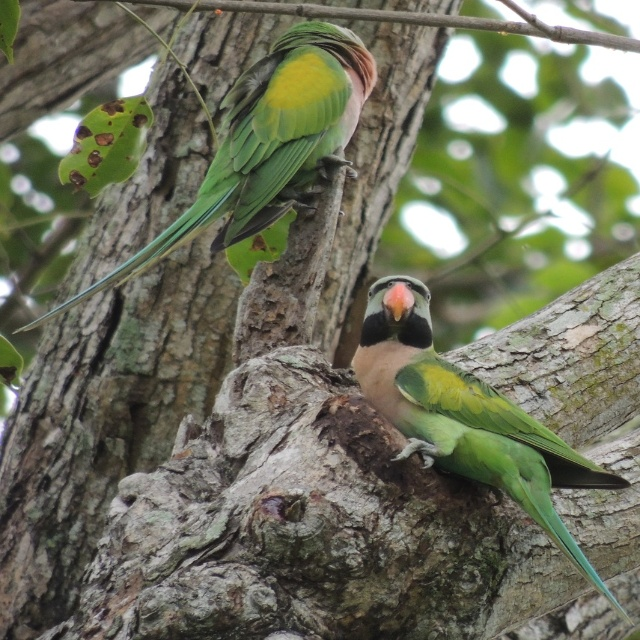Parrot: (15, 21, 379, 337), (352, 275, 638, 628)
